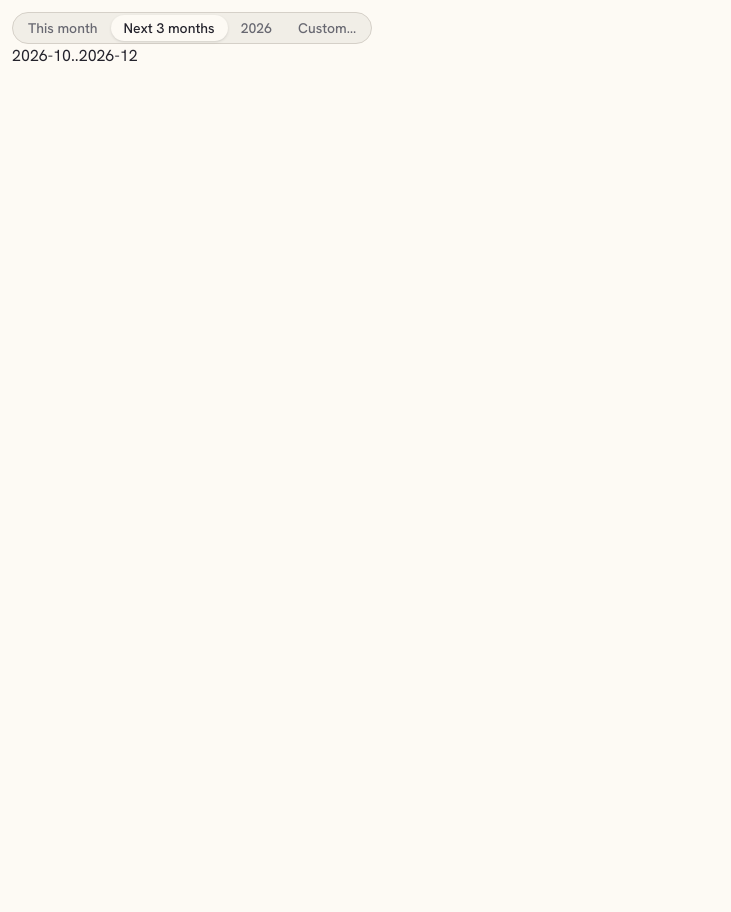
Test: MonthRangeSelect › lists January last year to December next year in each month select
The image size is (731, 912).
Click the tab "Custom…" at coordinates (327, 28), box [285,15,369,41]
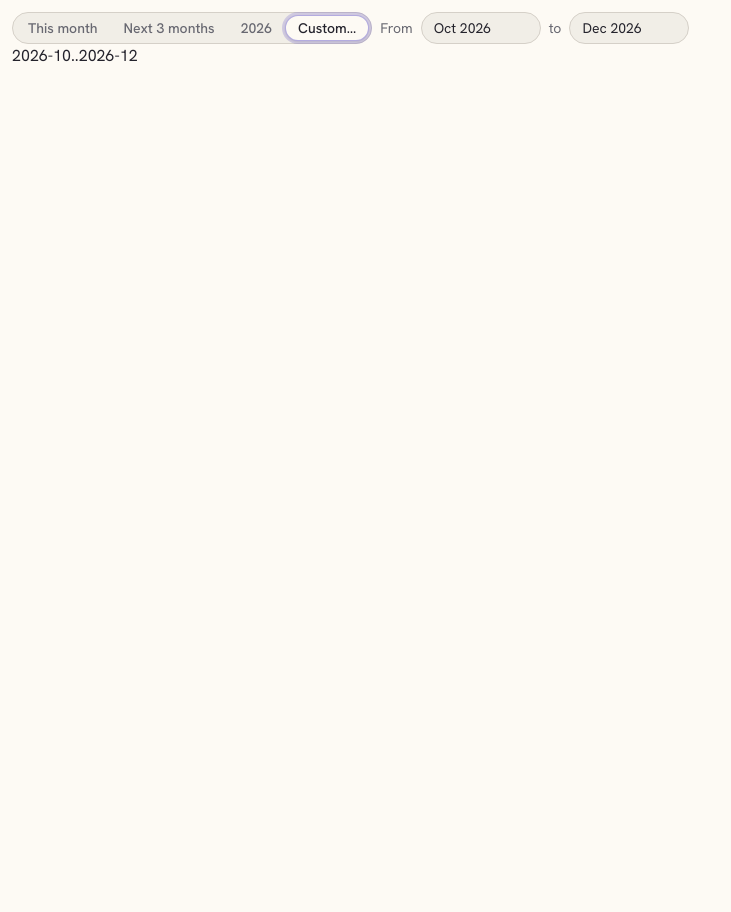
Click the dropdown named "To" at coordinates (629, 28), box [569,12,689,44]
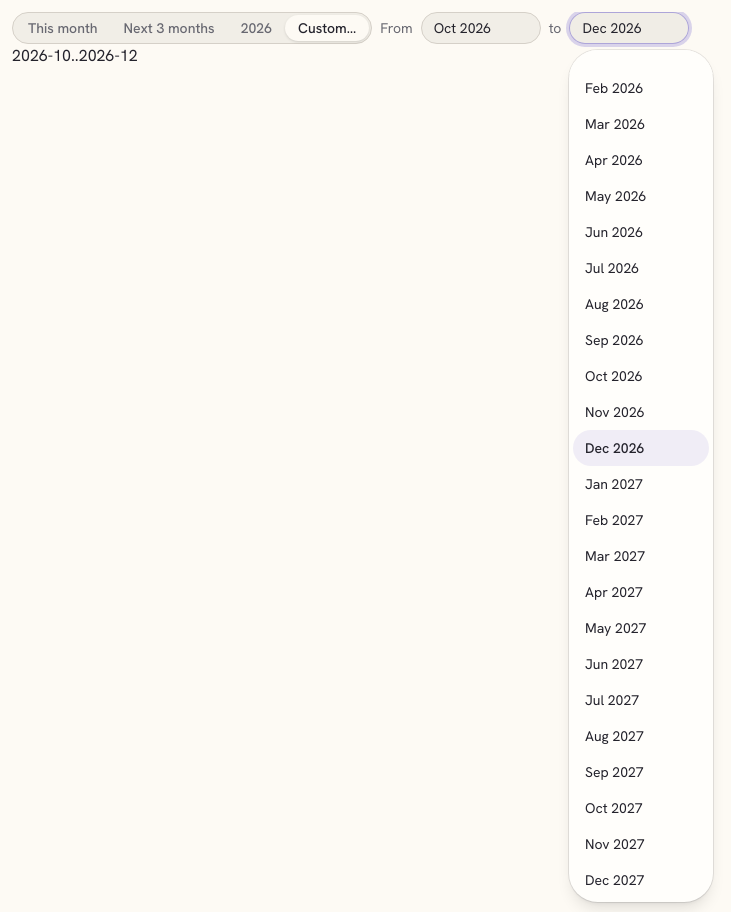
Now the option "Dec 2027" is shown, box [585,871,644,889]
